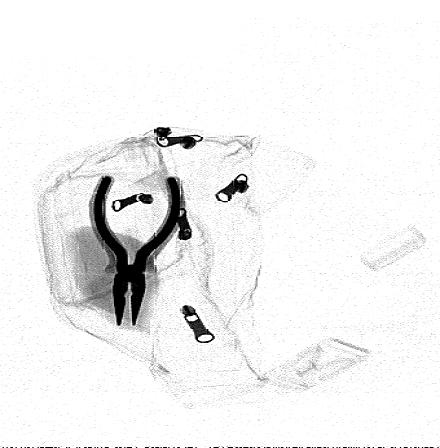Pliers: (87, 168, 190, 330)
